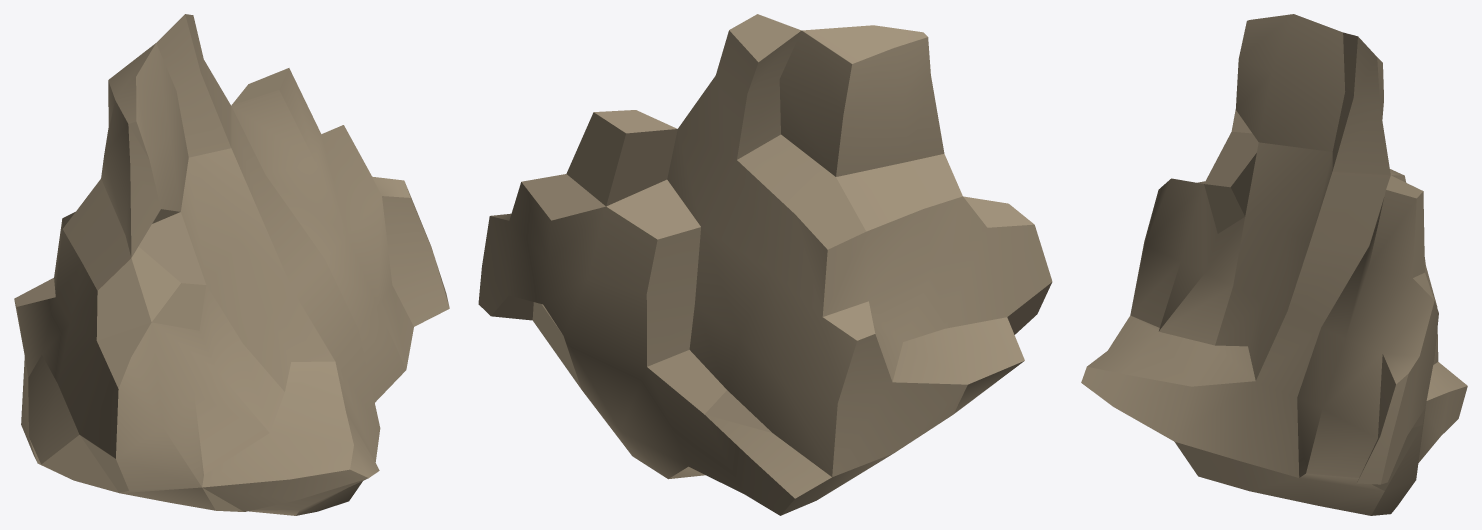
The model's file is Rock_02.glb.
3 views of the same model, side by side, from view 1: azimuth 30°, elevation 25°; view 2: azimuth 150°, elevation 25°; view 3: azimuth 270°, elevation 25° (orthographic). The views are drawn at different scales.
Visible parts, largest first — view 1: rock_02; view 2: rock_02; view 3: rock_02.
Part boxes in pixels (left/top/right/bottom): rock_02: left=14, top=14, right=449, bottom=515; rock_02: left=478, top=14, right=1052, bottom=515; rock_02: left=1081, top=14, right=1467, bottom=515.
Size of what is drawn, in the model's own units: 19.15 by 18.13 by 14.49.
